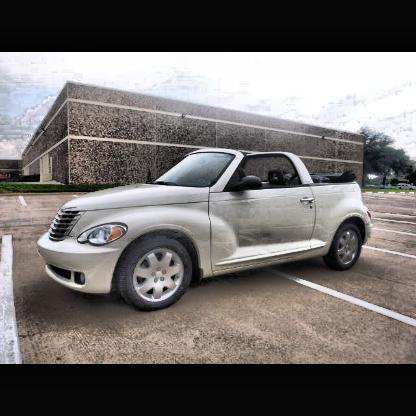Chrysler PT Cruiser Convertible 2008: (38, 148, 375, 315)
